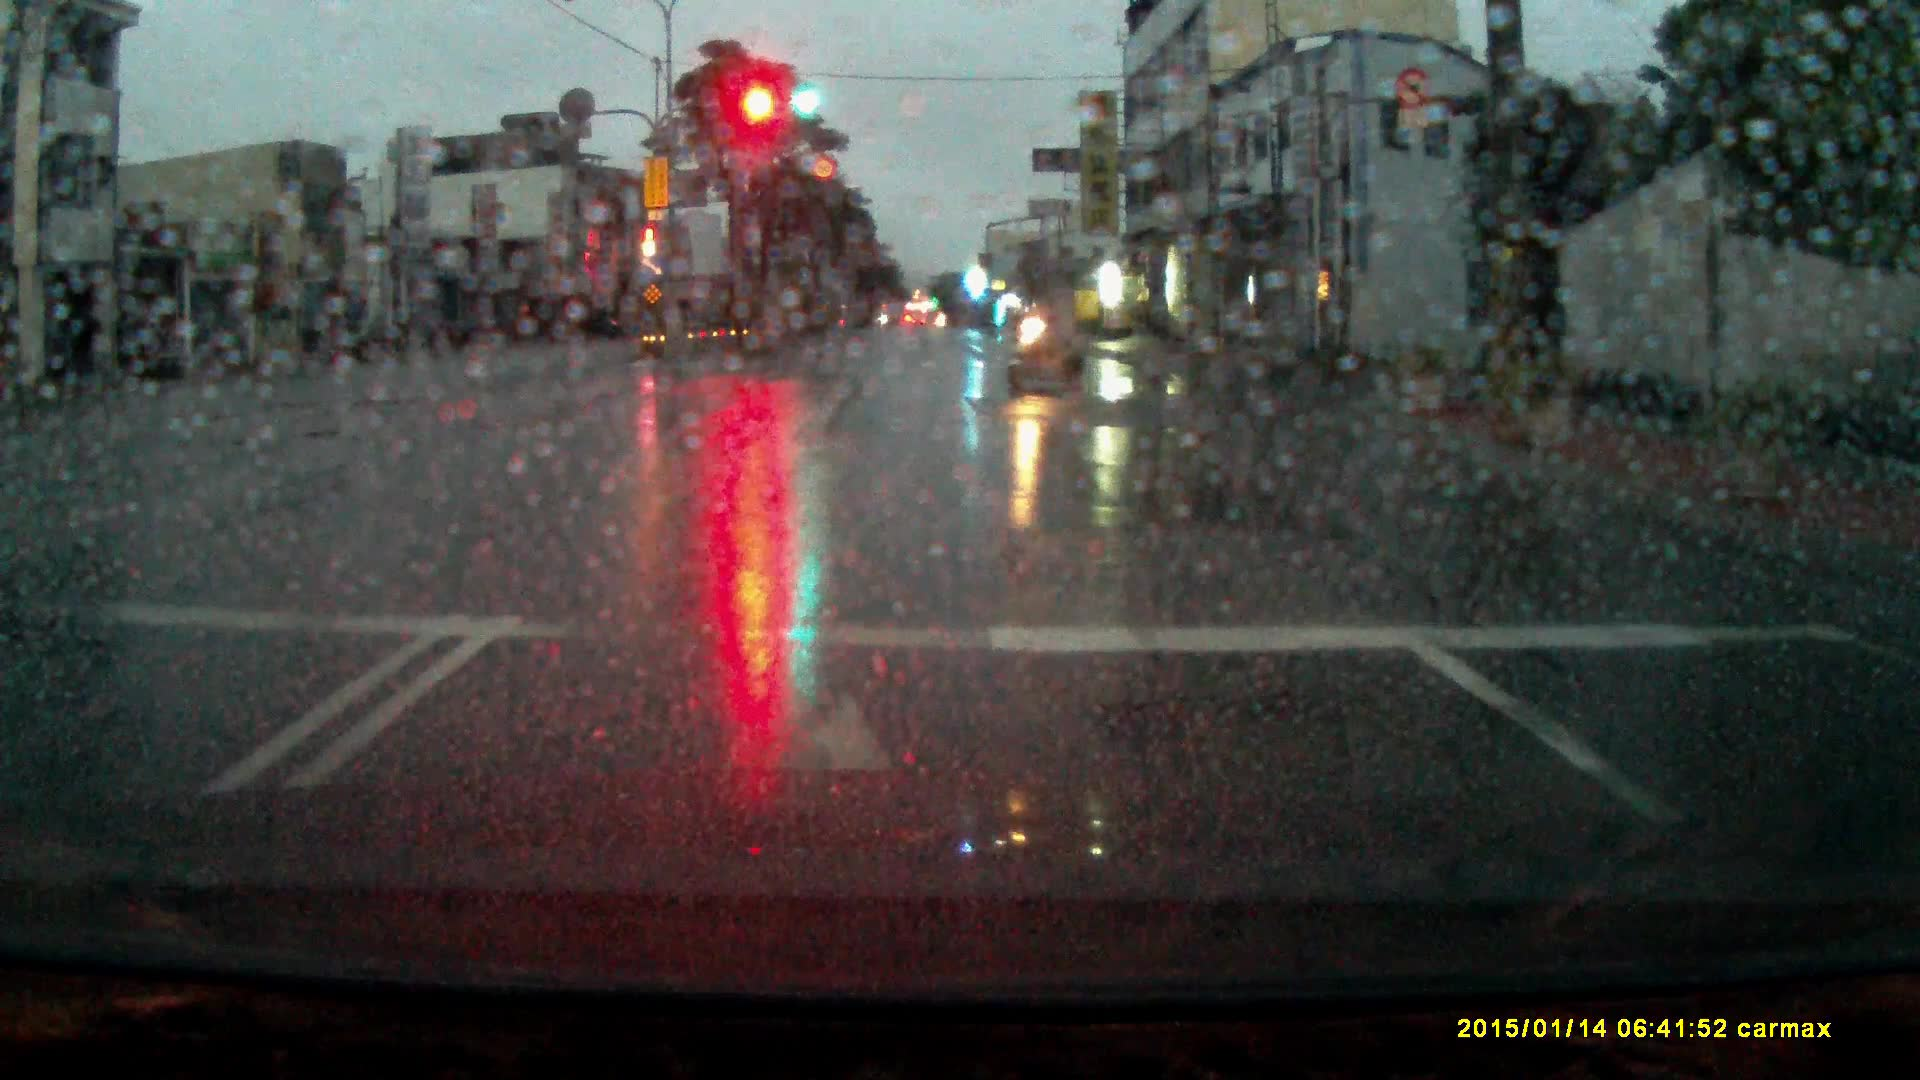rider: (1007, 282, 1087, 394)
